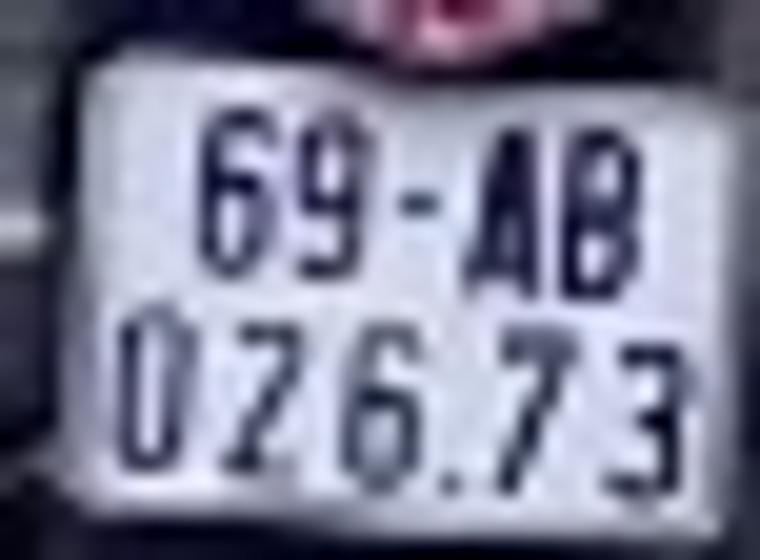-: (393, 188, 445, 221)
.: (433, 465, 470, 502)
0: (117, 305, 194, 476)
3: (604, 336, 697, 510)
6: (191, 102, 284, 284), (340, 326, 432, 502)
7: (487, 322, 590, 501), (212, 321, 321, 471)
9: (287, 104, 373, 280)
A: (461, 128, 548, 304)
B: (557, 126, 645, 302)
